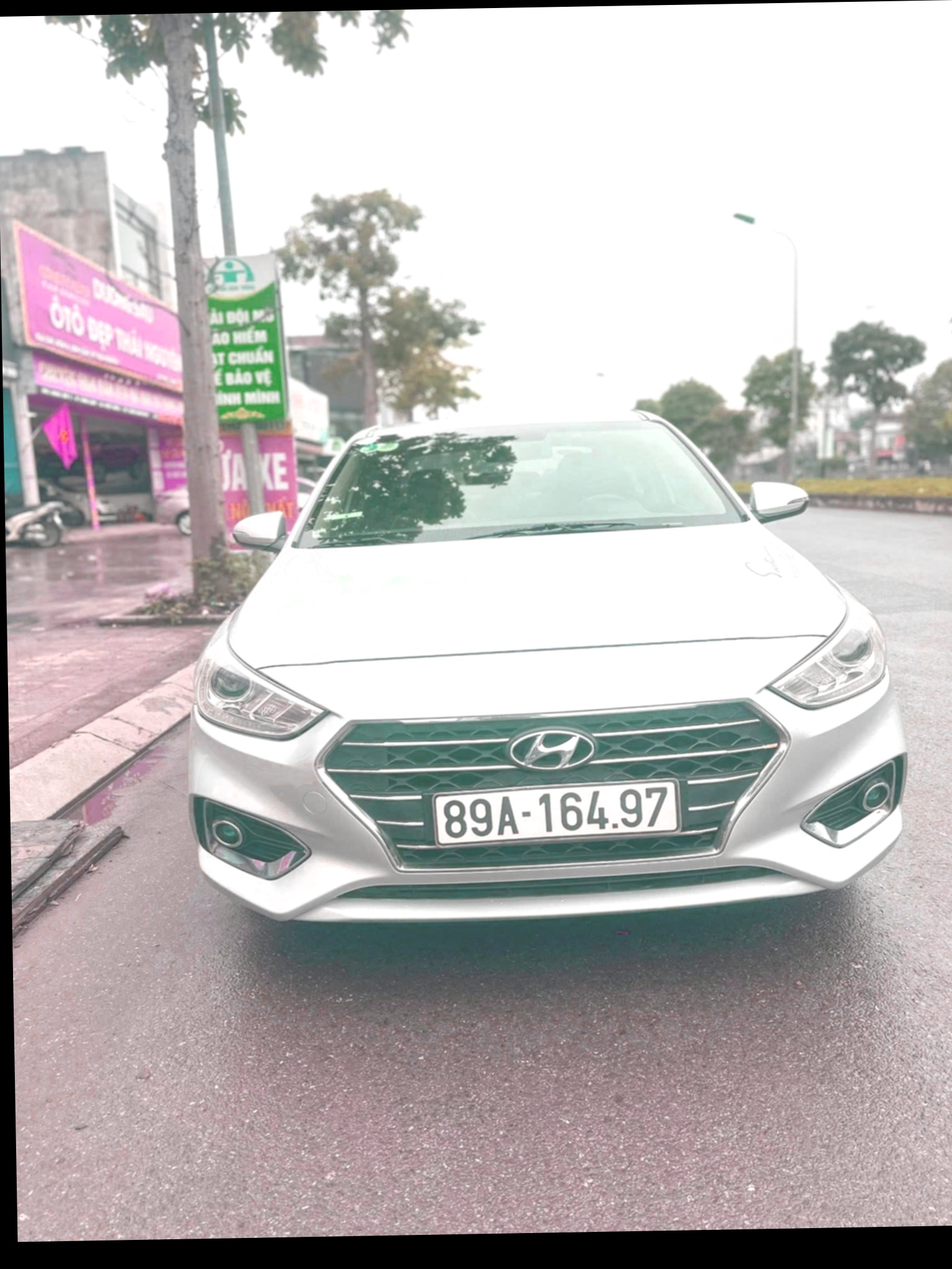Bien-so: (442, 800, 674, 871)
